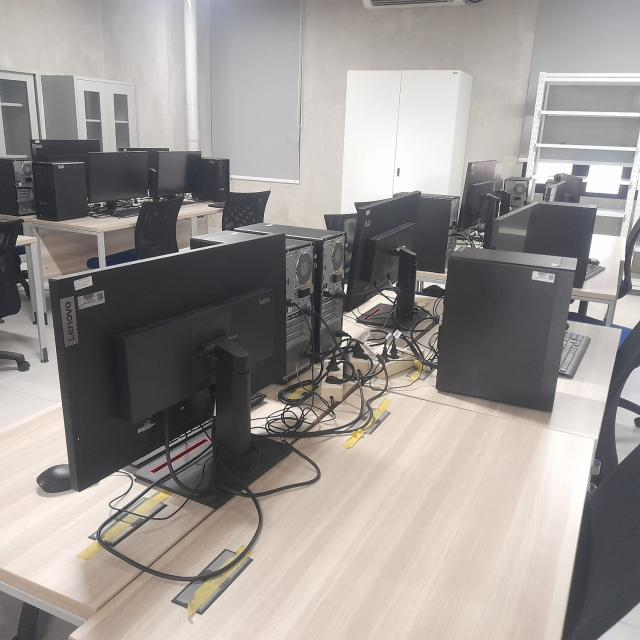keyboard: (558, 331, 592, 378), (111, 206, 141, 218)
monitor: (49, 234, 291, 508), (346, 190, 430, 329), (490, 201, 598, 289), (457, 160, 503, 248), (85, 151, 148, 215), (156, 150, 202, 202), (119, 147, 170, 190), (30, 139, 100, 162), (553, 173, 582, 203)
mouse: (36, 464, 72, 493)
pc: (435, 248, 577, 412), (190, 228, 317, 386), (235, 222, 348, 360), (393, 192, 461, 273), (32, 160, 89, 222), (0, 156, 36, 217), (193, 157, 230, 202), (503, 175, 533, 212)
